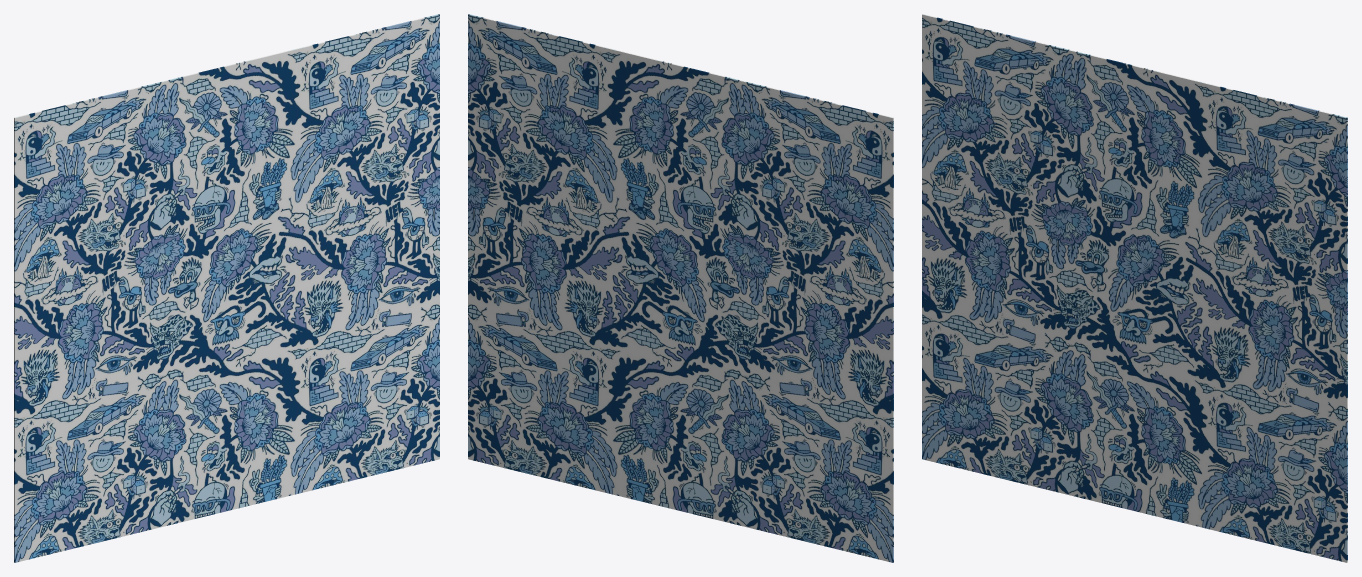
File: porcelain3.glb
3 views of the same model, side by side, from view 1: azimuth 30°, elevation 25°; view 2: azimuth 150°, elevation 25°; view 3: azimuth 330°, elevation 25° (orthographic).
Visible parts, largest first — view 1: Fracture 10, Fracture, Fracture 9, Fracture 8, Fracture 6, Fracture 1, Fracture 3, Fracture 7, Fracture 5, Fracture 2, Fracture 4; view 2: Fracture 10, Fracture, Fracture 9, Fracture 8, Fracture 6, Fracture 1, Fracture 3, Fracture 7, Fracture 5, Fracture 2, Fracture 4; view 3: Fracture 10, Fracture, Fracture 9, Fracture 8, Fracture 6, Fracture 1, Fracture 3, Fracture 7, Fracture 5, Fracture 2, Fracture 4.
Boxes of the visible parts, box(x1,y1,x2,y2) form: Fracture 10: box(14, 302, 291, 562); Fracture: box(14, 82, 250, 309); Fracture 9: box(285, 159, 439, 495); Fracture 8: box(160, 14, 439, 197); Fracture 6: box(279, 169, 423, 299); Fracture 1: box(246, 295, 330, 447); Fracture 3: box(155, 257, 264, 328); Fracture 7: box(225, 170, 315, 238); Fracture 5: box(260, 195, 336, 288); Fracture 2: box(212, 281, 281, 357); Fracture 4: box(197, 201, 311, 273); Fracture 10: box(616, 302, 893, 562); Fracture: box(657, 82, 893, 309); Fracture 9: box(468, 159, 622, 495); Fracture 8: box(468, 14, 747, 197); Fracture 6: box(484, 169, 628, 299); Fracture 1: box(577, 295, 661, 447); Fracture 3: box(643, 257, 752, 328); Fracture 7: box(592, 170, 682, 238); Fracture 5: box(571, 195, 647, 288); Fracture 2: box(626, 281, 695, 357); Fracture 4: box(596, 201, 710, 273); Fracture 10: box(922, 206, 1198, 526); Fracture: box(922, 14, 1157, 266); Fracture 9: box(1192, 263, 1347, 562); Fracture 8: box(1068, 49, 1347, 264); Fracture 6: box(1187, 248, 1330, 345); Fracture 1: box(1153, 326, 1237, 475); Fracture 3: box(1062, 259, 1171, 321); Fracture 7: box(1132, 181, 1222, 242); Fracture 5: box(1167, 241, 1244, 313); Fracture 2: box(1119, 299, 1188, 367); Fracture 4: box(1105, 237, 1218, 272).
Size of the model in its own units: 0.1 by 0.1 by 0.000308.
Materials: 1 (1 with a texture image).
